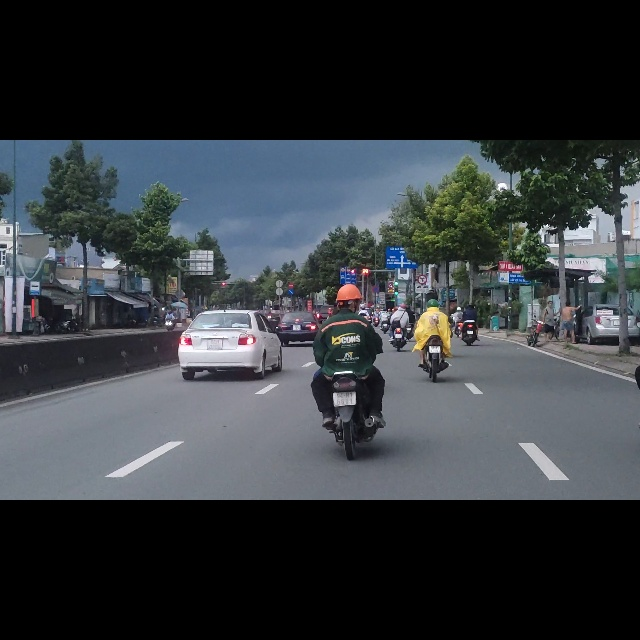bien_cam: (340, 235, 356, 257), (418, 239, 427, 257), (288, 254, 294, 264), (288, 265, 294, 275)
